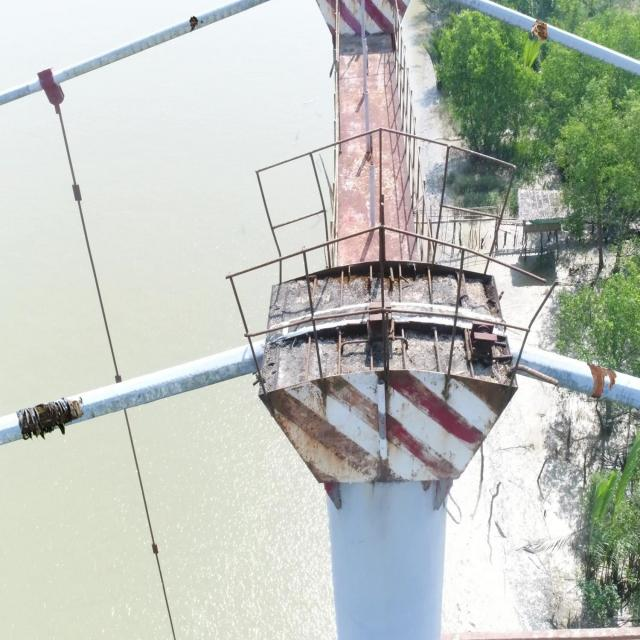corrosion: (17, 395, 84, 440), (587, 362, 617, 399), (530, 20, 548, 46), (188, 14, 198, 33)
